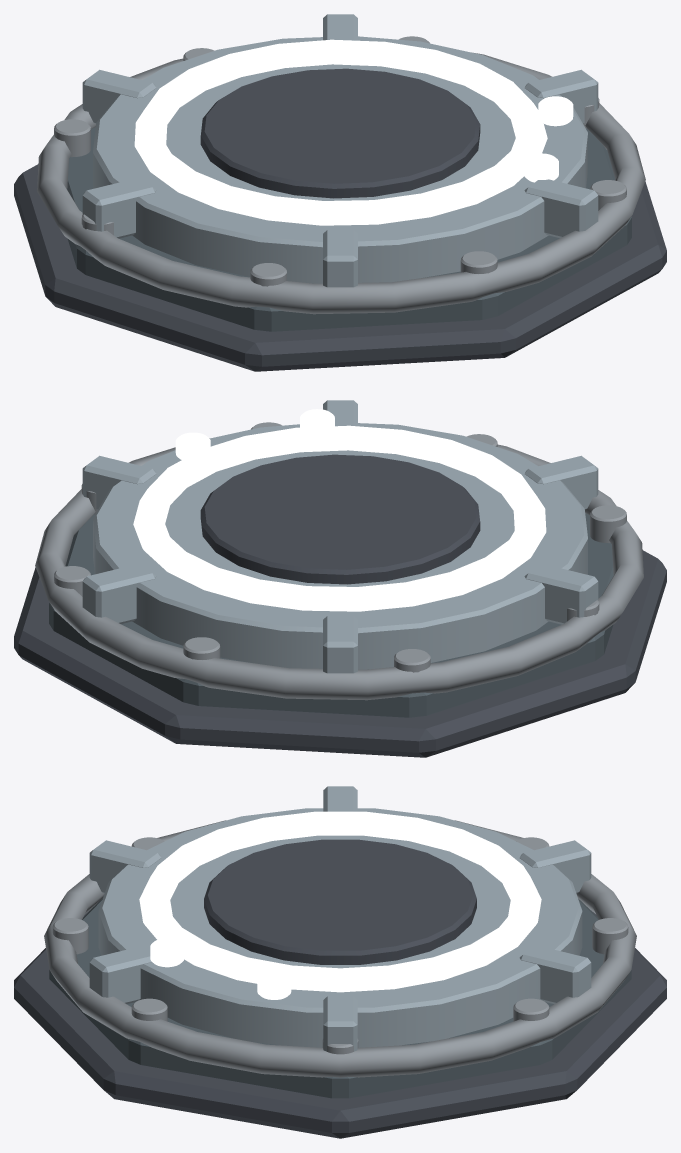
The model's file is rail_base_l2.glb.
3 renders of one model, top to bottom at view 1: azimuth 30°, elevation 25°; view 2: azimuth 150°, elevation 25°; view 3: azimuth 270°, elevation 25°, orthographic. The views are drawn at different scales.
Parts seen in each view (by area): view 1: Cylinder.002, Cylinder, Cylinder.003, Torus.001, Torus, Cylinder.001, Cube.005, Cube.003, Cube.002, Cube.004, Cube, Cylinder.007 (+6 smaller); view 2: Cylinder.002, Cylinder, Cylinder.003, Torus.001, Torus, Cylinder.001, Cube.001, Cube.003, Cube.004, Cube.002, Cube, Cylinder.009 (+6 smaller); view 3: Cylinder.002, Cylinder, Cylinder.003, Torus, Torus.001, Cylinder.001, Cube.001, Cube.005, Cube.002, Cube.004, Cube, Cylinder.006 (+6 smaller).
Boxes of the visible parts, x1=… form: Cylinder.002: x1=93, y1=36, x2=587, y2=283; Cylinder: x1=14, y1=164, x2=666, y2=371; Cylinder.003: x1=200, y1=68, x2=480, y2=198; Torus.001: x1=134, y1=39, x2=547, y2=225; Torus: x1=37, y1=52, x2=645, y2=314; Cylinder.001: x1=67, y1=127, x2=631, y2=331; Cube.005: x1=524, y1=179, x2=598, y2=237; Cube.003: x1=82, y1=177, x2=156, y2=238; Cube.002: x1=82, y1=69, x2=156, y2=123; Cube.004: x1=323, y1=229, x2=357, y2=287; Cube: x1=524, y1=69, x2=598, y2=123; Cylinder.007: x1=54, y1=119, x2=90, y2=157; Cylinder.002: x1=93, y1=423, x2=587, y2=669; Cylinder: x1=14, y1=550, x2=666, y2=757; Cylinder.003: x1=200, y1=454, x2=480, y2=584; Torus.001: x1=133, y1=425, x2=546, y2=611; Torus: x1=35, y1=444, x2=643, y2=700; Cylinder.001: x1=49, y1=513, x2=613, y2=717; Cube.001: x1=82, y1=563, x2=156, y2=623; Cube.003: x1=524, y1=563, x2=598, y2=624; Cube.004: x1=524, y1=455, x2=598, y2=509; Cube.002: x1=323, y1=615, x2=357, y2=673; Cube: x1=82, y1=455, x2=156, y2=509; Cylinder.009: x1=590, y1=505, x2=626, y2=543; Cylinder.002: x1=98, y1=808, x2=582, y2=1047; Cylinder: x1=14, y1=910, x2=666, y2=1138; Cylinder.003: x1=204, y1=839, x2=476, y2=964; Torus: x1=44, y1=820, x2=636, y2=1077; Torus.001: x1=139, y1=811, x2=541, y2=992; Cylinder.001: x1=49, y1=898, x2=631, y2=1098; Cube.001: x1=519, y1=945, x2=591, y2=1004; Cube.005: x1=89, y1=945, x2=151, y2=1004; Cube.002: x1=519, y1=840, x2=591, y2=893; Cube.004: x1=89, y1=840, x2=161, y2=893; Cube: x1=323, y1=996, x2=357, y2=1051; Cylinder.006: x1=592, y1=918, x2=628, y2=954.
Bounding box in the file's own units: 2.11 × 0.4 × 2.11.
